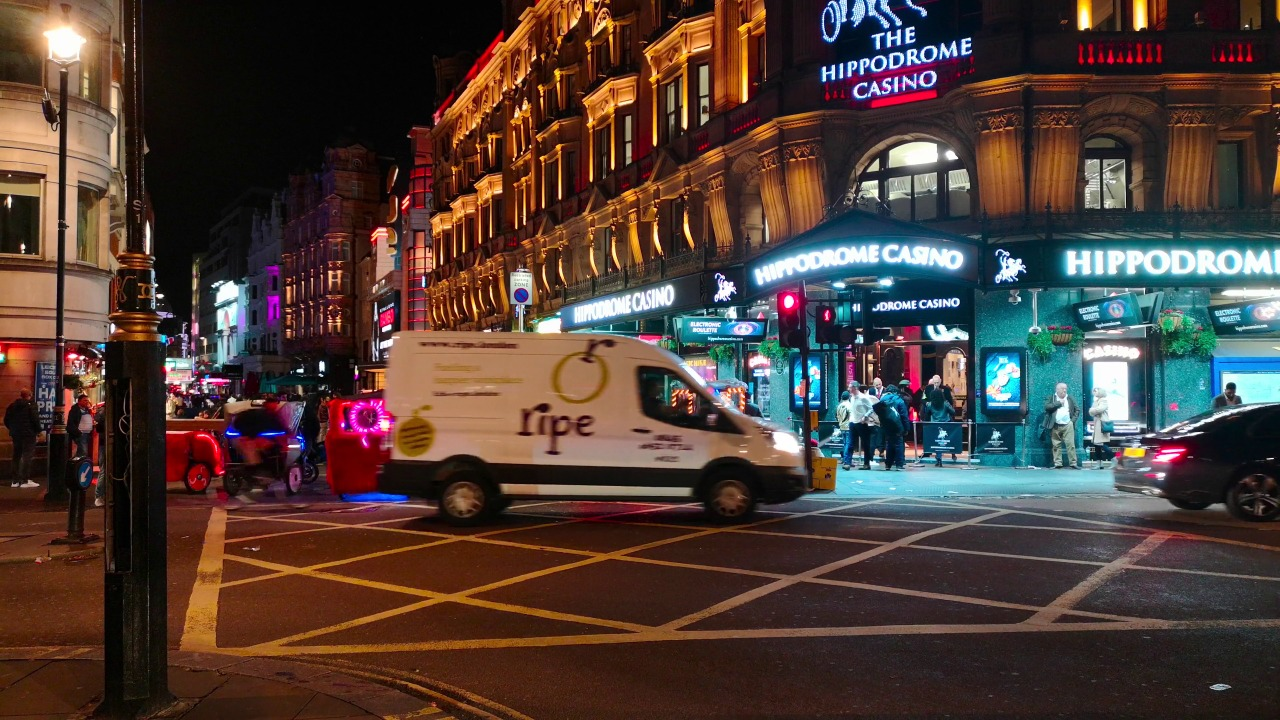car: (390, 334, 813, 524), (1121, 394, 1280, 513), (241, 410, 318, 510), (333, 402, 386, 488), (182, 429, 244, 500)
person: (1039, 384, 1082, 470), (5, 398, 40, 493), (848, 376, 869, 465), (883, 388, 905, 467), (931, 396, 954, 458), (833, 388, 850, 470), (886, 391, 903, 469), (1090, 386, 1108, 454), (71, 394, 85, 451), (1209, 380, 1251, 395), (926, 374, 952, 393), (869, 377, 882, 393)
